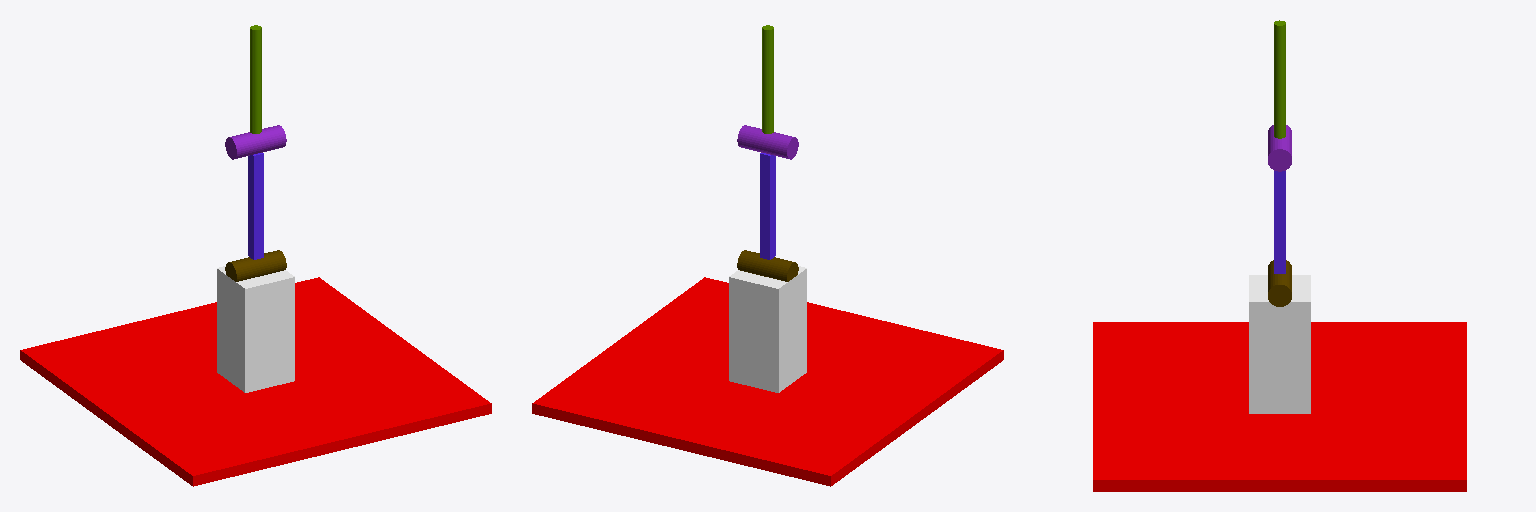
URDF robot description (pi_robot):
<?xml version="1.0"?>

<robot name="pi_robot">

	<!-- * * * Link Definitions * * * -->

 	<link name="base_link">
		<visual>
		    <origin xyz="0 0 0" rpy="0 0 0"/>
			<geometry>
				<box size="3 3 0.1"/>
			</geometry>
			<material name="Cyan1">
	       		<color rgba="1 0 0 1.0"/>
	     	</material>
		</visual>	
	</link>
	
 	<link name="ana_govde_link">
		<visual>
		    <origin xyz="0 0 0.05" rpy="0 0 0"/>
			<geometry>
				<box size="0.5 0.5 1"/>
			</geometry>
			<material name="Red">
	       		<color rgba="1 1 1 1.0"/>
	     	</material>
		</visual>	
	</link>
	
	 <link name="donme1_link">
		<visual>
		    <origin xyz="0 0 0" rpy="0 0 0"/>
			<geometry>
				<cylinder radius="0.1" length="0.5"/>
			</geometry>
			<material name="Red">
	       		<color rgba="0.4 0.3 0 1.0"/>
	     	</material>
		</visual>	
	</link>
	
	
	
	<link name="alt_kol_link">
		<visual>
		    <origin xyz="0 0 0" rpy="0 0 0"/>
			<geometry>
				<box size="0.1 0.1 1"/>
			</geometry>
			<material name="Blue">
	       		<color rgba="0.4 0.2 1 1.0"/>
	     	</material>
		</visual>	
	</link>
	
	<link name="donme2_link">
		<visual>
		    <origin xyz="0 0 0" rpy="0 0 0"/>
			<geometry>
				<cylinder radius="0.1" length="0.5"/>
			</geometry>
			<material name="Red">
	       		<color rgba="0.6 0.21 0.8 1.0"/>
	     	</material>
		</visual>	
	</link>
	

  	<link name="ust_kol_link">
		<visual>
			<origin xyz="0 0 0" rpy="0 0 1"/>
			<geometry>
				<cylinder radius="0.05" length="1"/>
			</geometry>
	     	<material name="Green">
				<color rgba="0.4 0.6 0 0"/>
			</material>
	   </visual>
	</link>

	
	<!-- * * * Joint Definitions * * * -->
	
	<joint name="ana_govde_joint" type="revolute">
    	<parent link="base_link"/>
    	<child link="ana_govde_link"/>
    	<origin xyz="0 0 0.5" rpy="0 0 0"/>
		<axis xyz="0 0 1"/>
		<limit lower="-3.1416" upper="3.1416" effort="10" velocity="3"/>
	</joint>
	
	<joint name="donme1_joint" type="revolute">
    	<parent link="ana_govde_link"/>
    	<child link="donme1_link"/>
    	<origin xyz="0 0 0.6" rpy="0 1.57 0"/>
		<axis xyz="0 0 1"/>
		<limit lower="-3.1416" upper="3.1416" effort="10" velocity="3"/>
	</joint>

	<joint name="alt_kol_joint" type="fixed">
    	<parent link="donme1_link"/>
    	<child link="alt_kol_link"/>
    	<origin xyz="-0.6 0 0" rpy="0 -1.57 0"/>	
	</joint>
	
	<joint name="donme2_joint" type="revolute">
    	<parent link="alt_kol_link"/>
    	<child link="donme2_link"/>
    	<origin xyz="0 0 0.6" rpy="0 1.57 0"/>
		<axis xyz="0 0 1"/>
		<limit lower="-3.1416" upper="3.1416" effort="10" velocity="3"/>
	</joint>

	<joint name="ust_kol_joint" type="fixed">
    	<parent link="donme2_link"/>
    	<child link="ust_kol_link"/>
    	<origin xyz="-0.6 0 0" rpy="0 -1.57 0"/>
	</joint>
	

</robot>

--- Render facts (derived) ---
3 views of the same robot in one strip: view 1: azimuth 30°, elevation 25°; view 2: azimuth 150°, elevation 25°; view 3: azimuth 270°, elevation 25° (orthographic).
Robot: pi_robot — 6 links, 5 joints (3 revolute, 2 fixed); root link base_link; default pose: all joints at 0.
Visible links, largest first — view 1: base_link, ana_govde_link, alt_kol_link, donme2_link, ust_kol_link, donme1_link; view 2: base_link, ana_govde_link, alt_kol_link, donme2_link, ust_kol_link, donme1_link; view 3: base_link, ana_govde_link, ust_kol_link, alt_kol_link, donme2_link, donme1_link.
Link boxes in pixels (x1,y1,x2,y2): base_link: (20, 277, 491, 486); ana_govde_link: (217, 266, 294, 392); alt_kol_link: (248, 153, 263, 259); donme2_link: (225, 125, 286, 159); ust_kol_link: (250, 25, 261, 133); donme1_link: (225, 250, 286, 281); base_link: (532, 277, 1003, 486); ana_govde_link: (729, 266, 806, 392); alt_kol_link: (760, 153, 775, 259); donme2_link: (737, 125, 798, 159); ust_kol_link: (762, 25, 773, 133); donme1_link: (737, 250, 798, 281); base_link: (1093, 322, 1466, 491); ana_govde_link: (1249, 275, 1310, 413); ust_kol_link: (1274, 20, 1285, 138); alt_kol_link: (1274, 171, 1285, 273); donme2_link: (1268, 125, 1291, 171); donme1_link: (1268, 260, 1291, 306).
Size in the robot's own frame: 3 by 3 by 3.45 metres.
Geometry: primitives only (box / cylinder / sphere), no mesh files.
